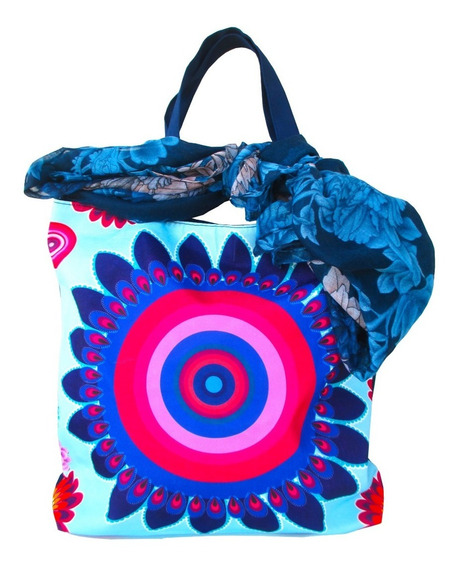cartera: (44, 25, 386, 540)
